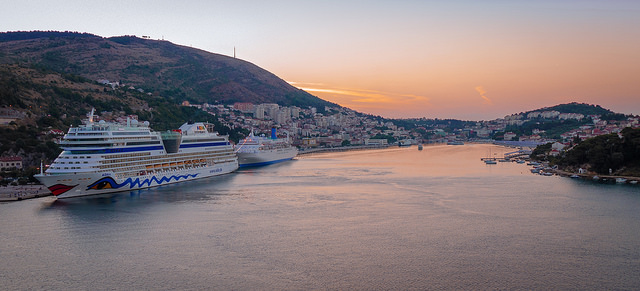cruise_ship: (34, 105, 243, 197), (234, 129, 300, 173)
